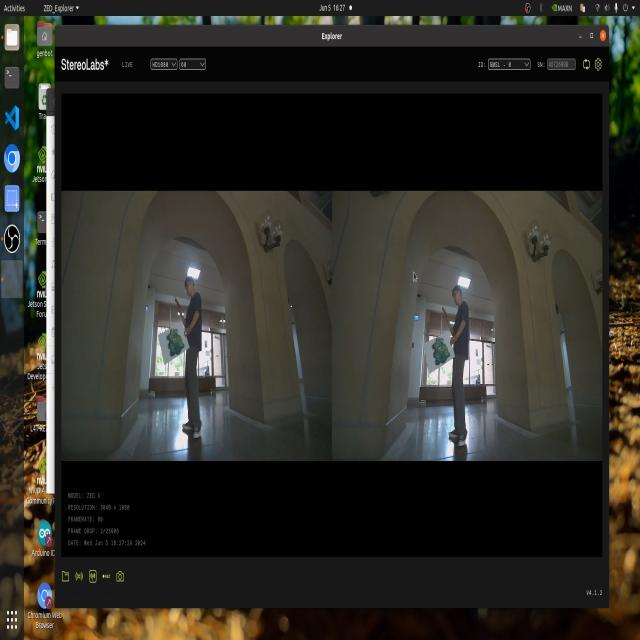green: (428, 335, 452, 374), (164, 326, 187, 361)
